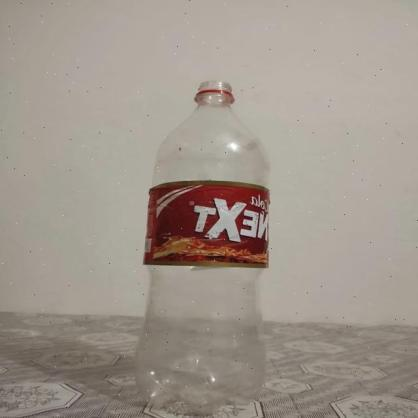bottle: (129, 79, 274, 415)
label: (144, 180, 274, 266)
